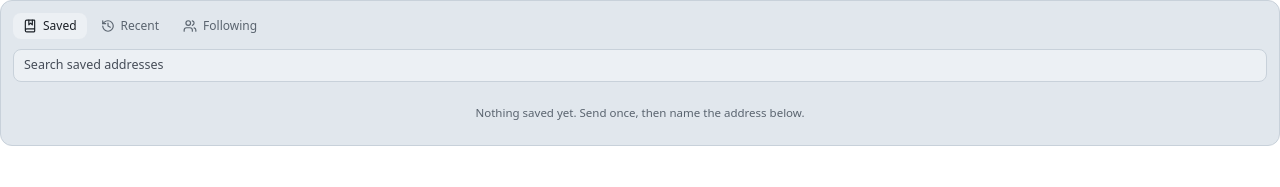
Scenario: empty and filtered states › filters on the address text
The image size is (1280, 187).
Step 1. Click the button "Recent" → coordinates (130, 26), box [91, 13, 169, 39]
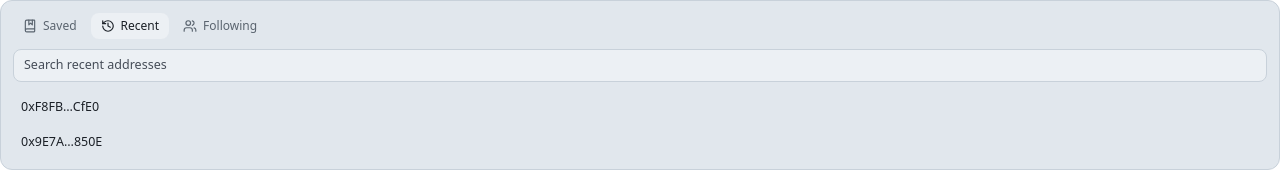
Step 2. Type "9e7a" into the field labelled "Search recent addresses" → coordinates (640, 65), box [13, 49, 1267, 82]
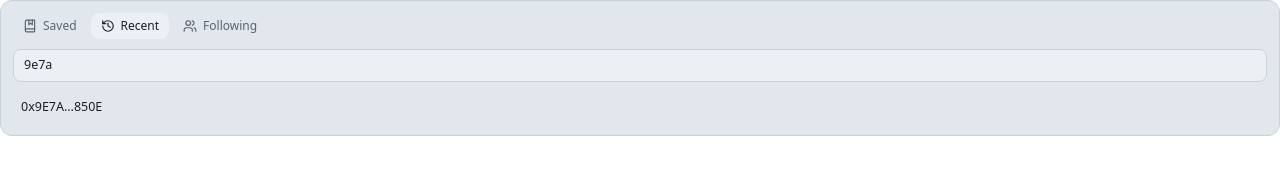
expect the text "0x9E7A…850E" is shown: met, box [21, 98, 102, 117]
expect the button "0xF8FB" is gone: met
